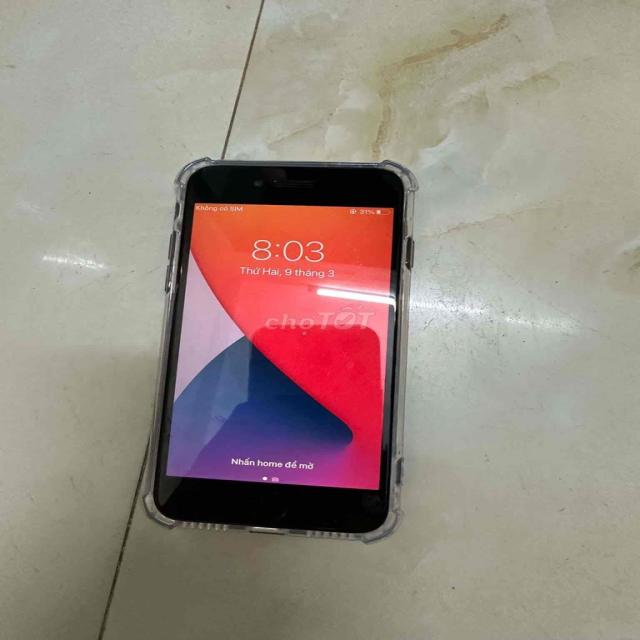scratch: (140, 154, 415, 540)
